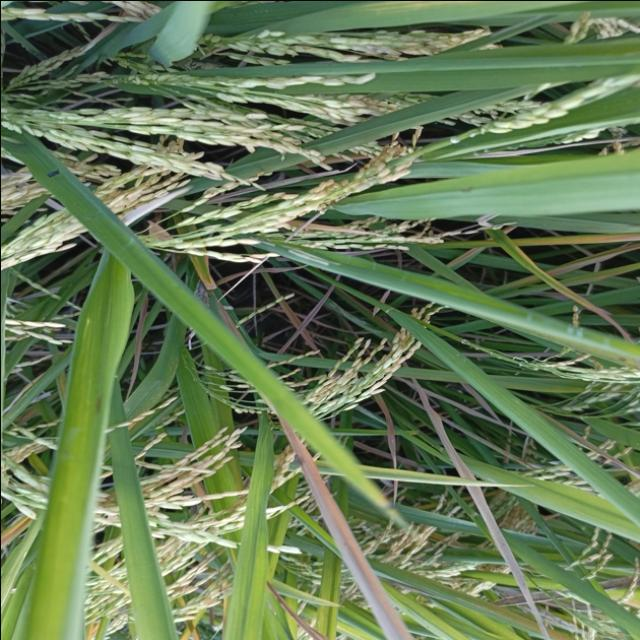Brown spot: (397, 359, 552, 640), (269, 406, 422, 640), (262, 285, 324, 362), (365, 390, 405, 504), (172, 222, 218, 292)
brown plant hopper: (507, 307, 640, 369), (245, 232, 348, 273)
